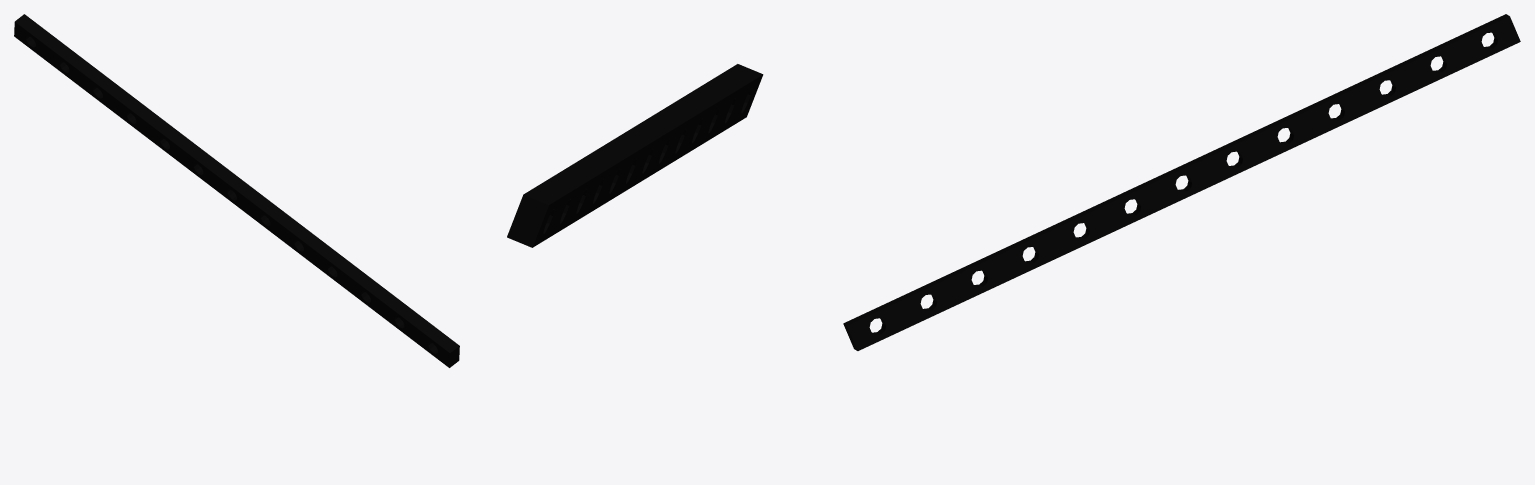
Rendered from seesaw2.glb.
3 views of the same model, side by side, from view 1: azimuth 30°, elevation 25°; view 2: azimuth 150°, elevation 25°; view 3: azimuth 270°, elevation 25° (orthographic). The views are drawn at different scales.
Visible parts, largest first — view 1: node_id8; view 2: node_id8; view 3: node_id8.
Part boxes in pixels (left/top/right/bottom): node_id8: left=14, top=14, right=459, bottom=367; node_id8: left=507, top=64, right=763, bottom=247; node_id8: left=843, top=14, right=1520, bottom=350.
Size of the model in its own units: 0.6665 by 1.11 by 1.79.
Materials: 12 (12 with a texture image).
